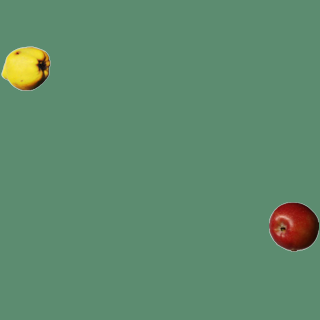Apple Braeburn: (268, 201, 318, 251)
Quince: (0, 43, 50, 93)
